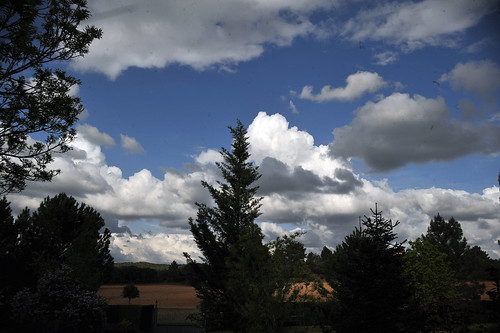sky: (91, 1, 500, 238)
tree: (1, 1, 92, 193), (187, 123, 270, 303), (1, 198, 108, 333), (312, 212, 403, 333), (399, 217, 500, 326), (229, 229, 293, 333)
